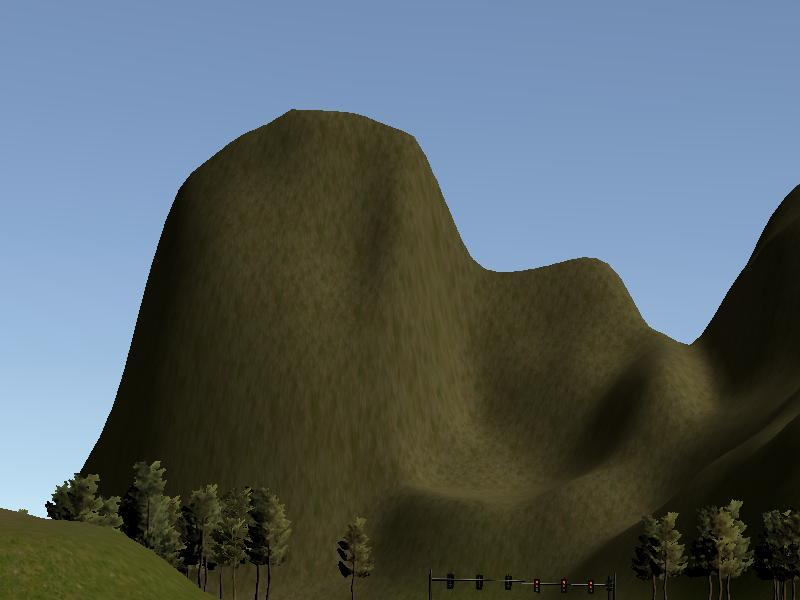Red: (559, 578, 568, 594), (587, 577, 595, 595), (533, 578, 541, 594)
